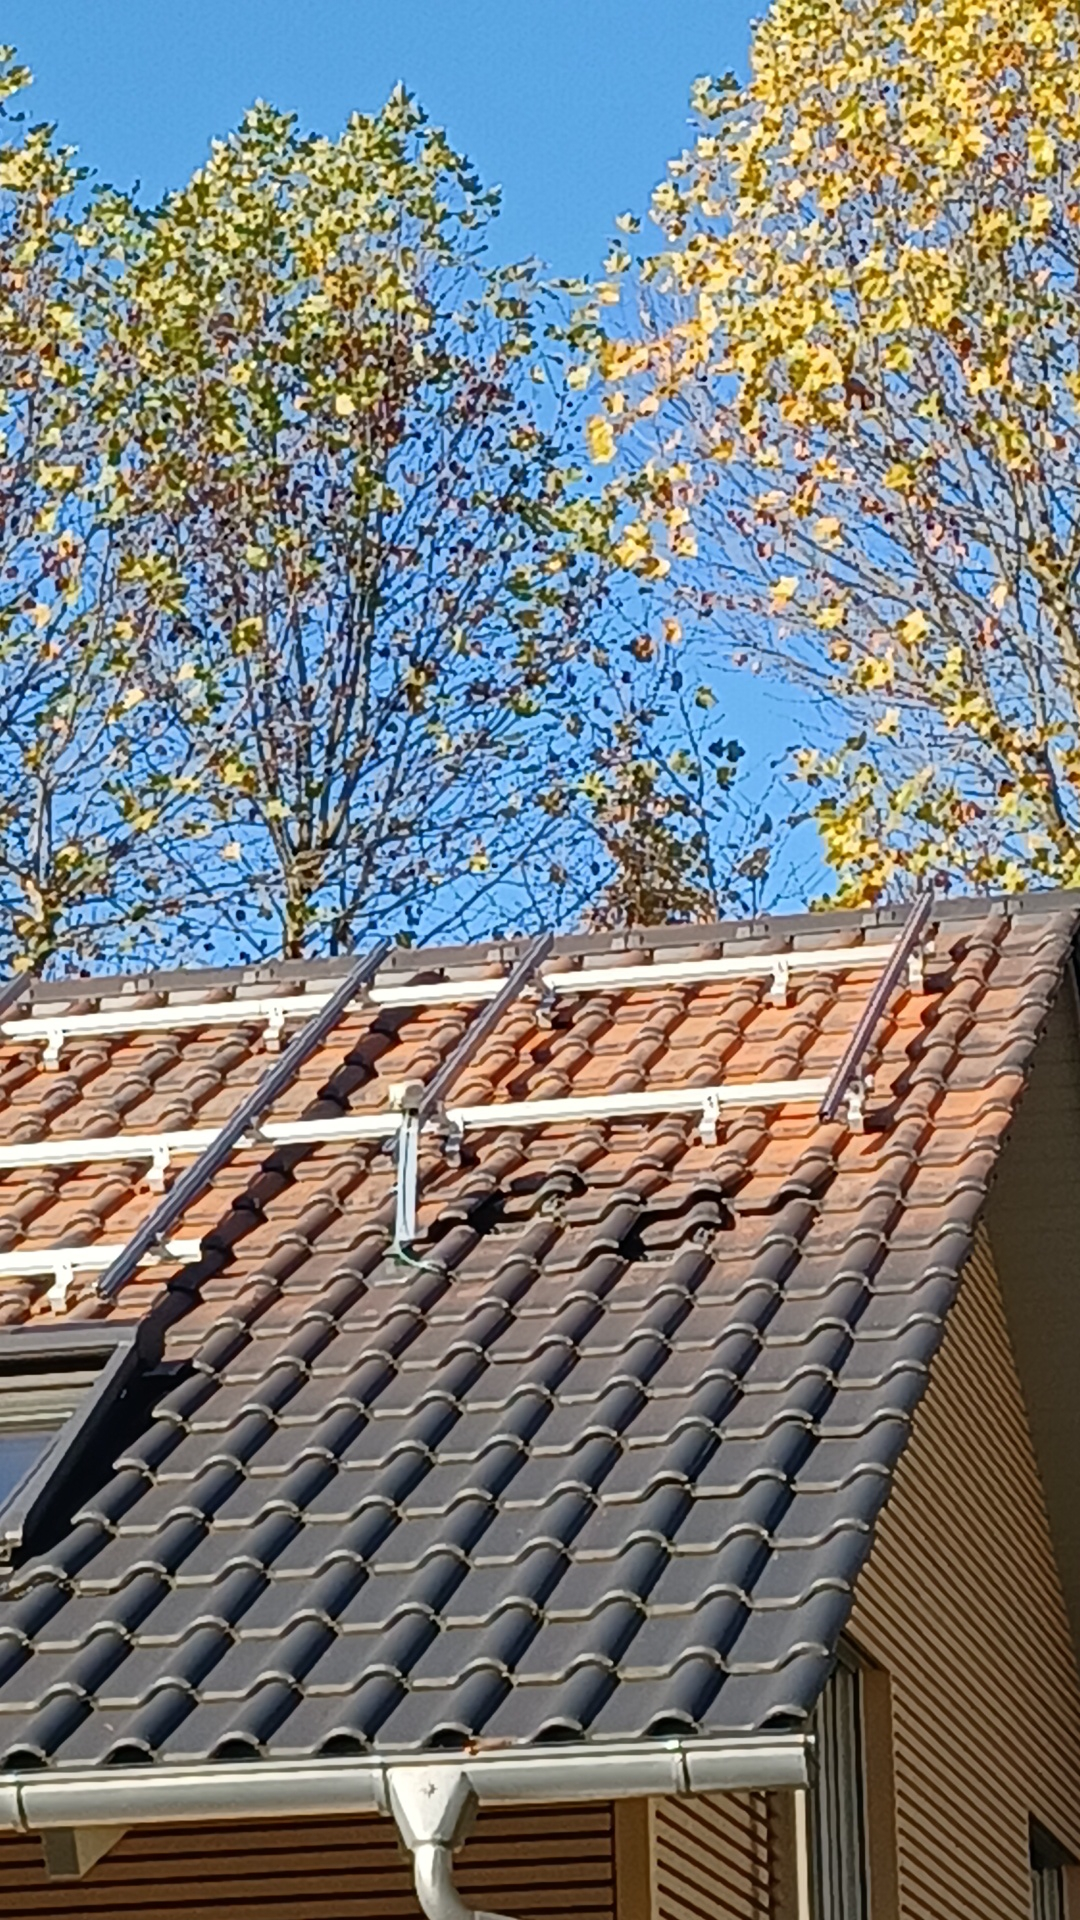hook: (47, 1259, 74, 1311), (146, 1143, 170, 1192), (699, 1093, 720, 1145), (262, 1004, 285, 1051), (444, 1116, 464, 1168), (535, 981, 556, 1029), (44, 1027, 65, 1071), (847, 1080, 864, 1133), (909, 944, 924, 994), (771, 959, 787, 1007)
